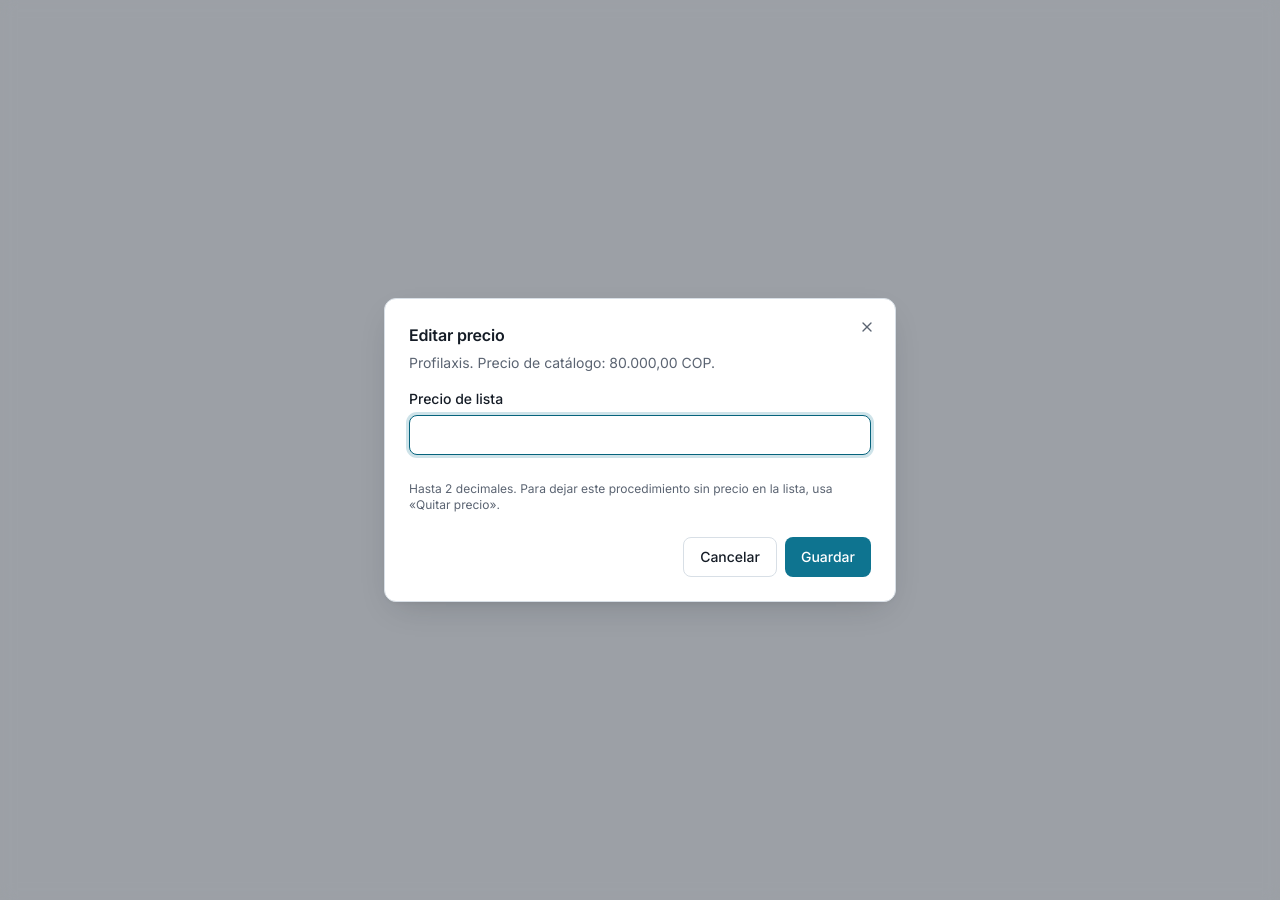
Test case: PriceListItemPriceModal (DX-105) › un importe ilegible no se envía
Type "abc" into the field labelled "Precio de lista".
click(640, 435); type("abc")  # box [409,415,871,455]
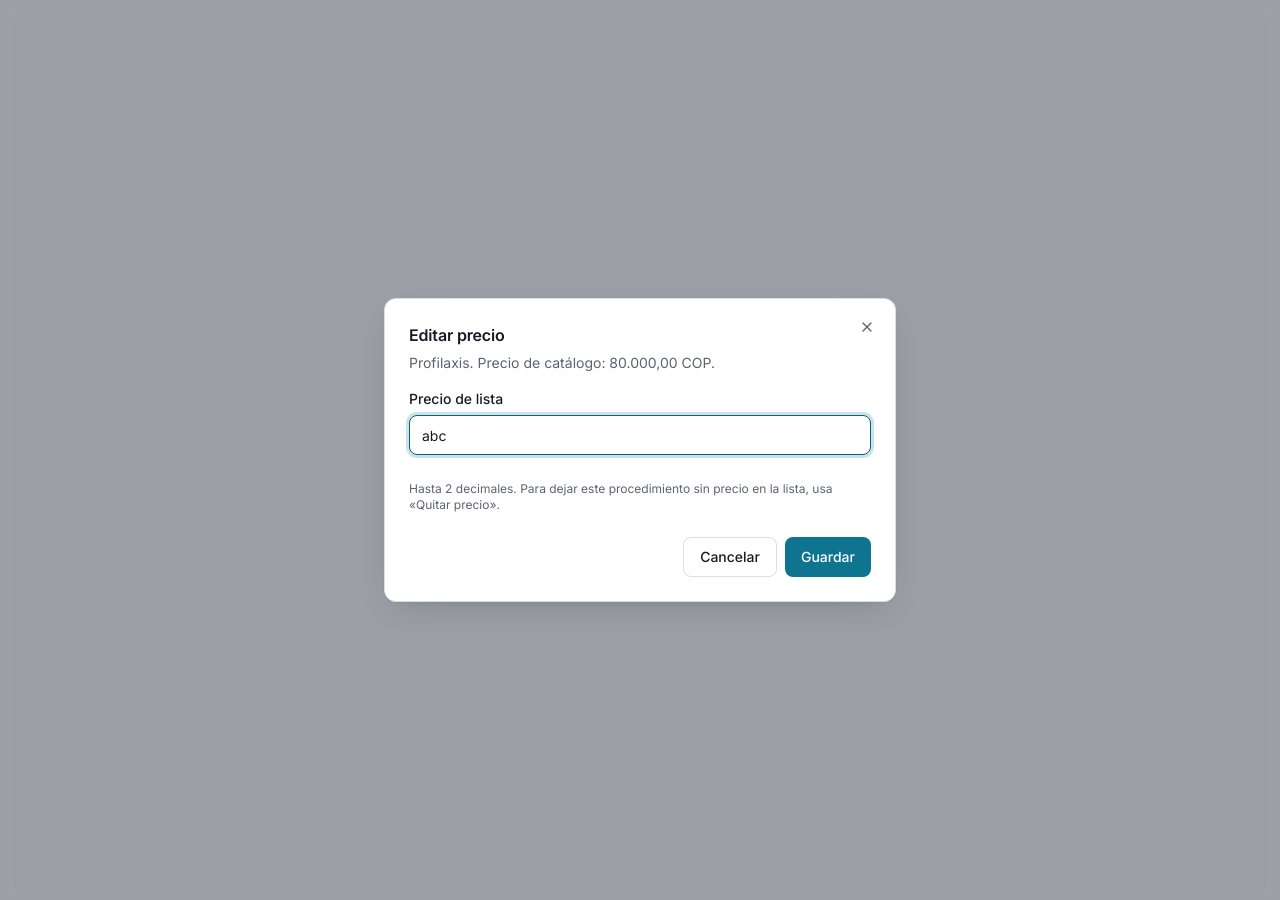
Click the button "Guardar".
click(828, 557)  # box [785,537,871,577]
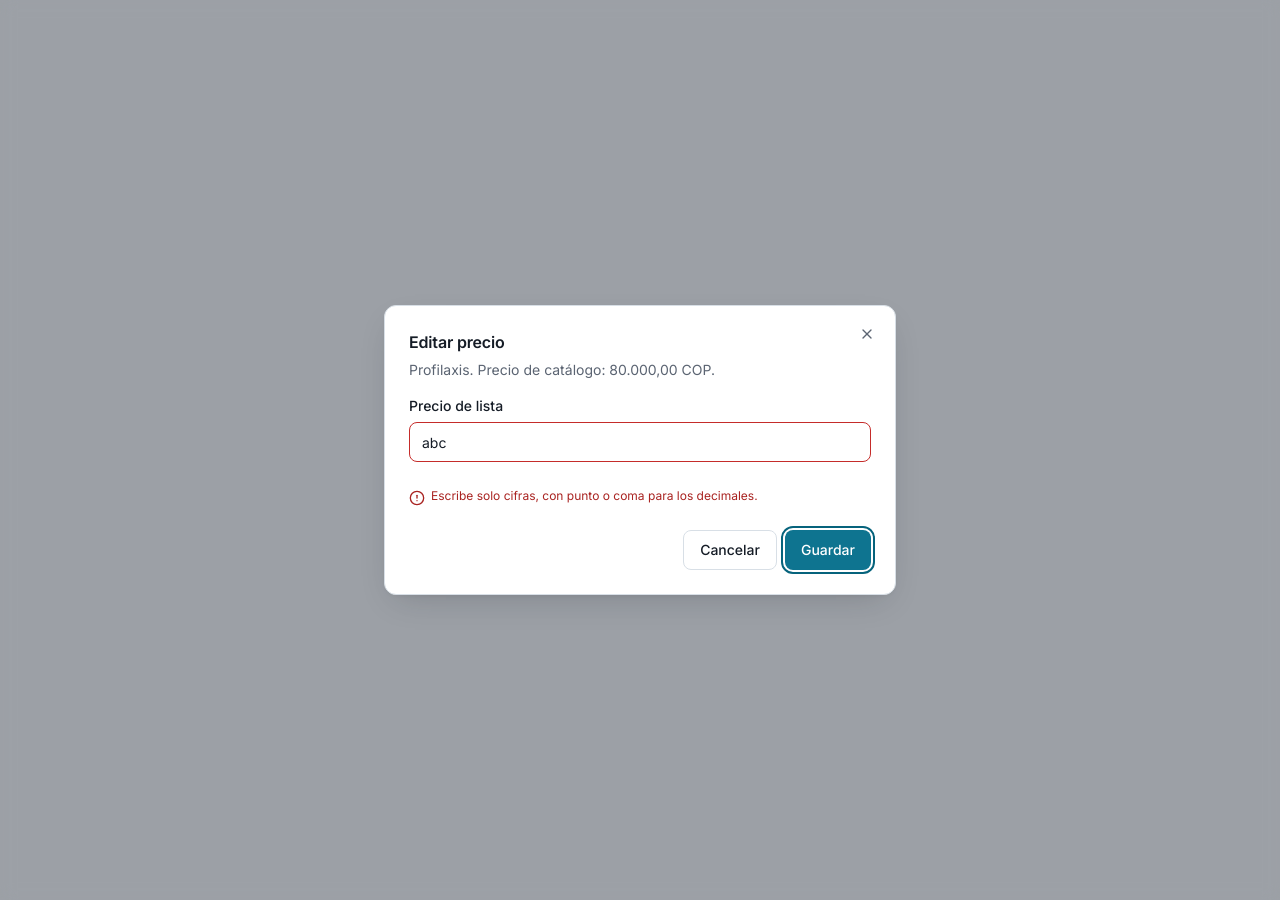
Now the message "Escribe solo cifras, con punto o coma para los decimales." is shown, box [409,488,758,506]
